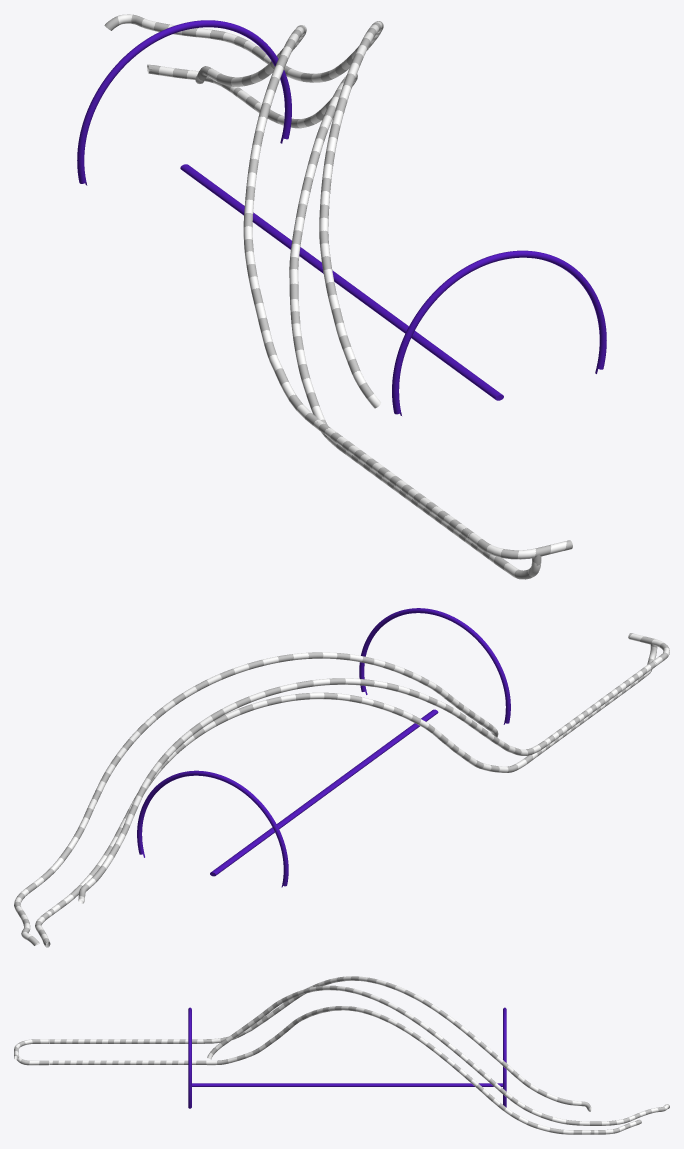
Rendered from Rail_Left_UpperCurve_Save.fbx.
The picture shows the model from 3 angles, top to bottom: view 1: azimuth 30°, elevation 25°; view 2: azimuth 150°, elevation 25°; view 3: azimuth 270°, elevation 25°; orthographic projection. The views are drawn at different scales.
Parts seen in each view (by area): view 1: RailLeft; view 2: RailLeft; view 3: RailLeft.
Part boxes in pixels (<box>): RailLeft: <box>77,14,606,579</box>; RailLeft: <box>14,608,669,947</box>; RailLeft: <box>14,976,669,1134</box>.
Bounding box in the file's own units: 341 × 1124 × 218.
Materials: 2 (1 with a texture image).
